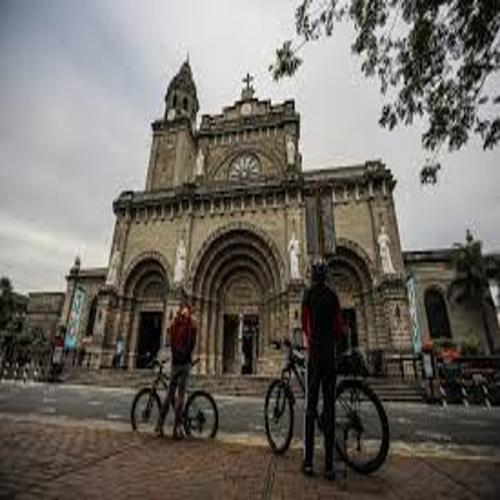Manila Cathedral Church: (47, 37, 458, 406)
